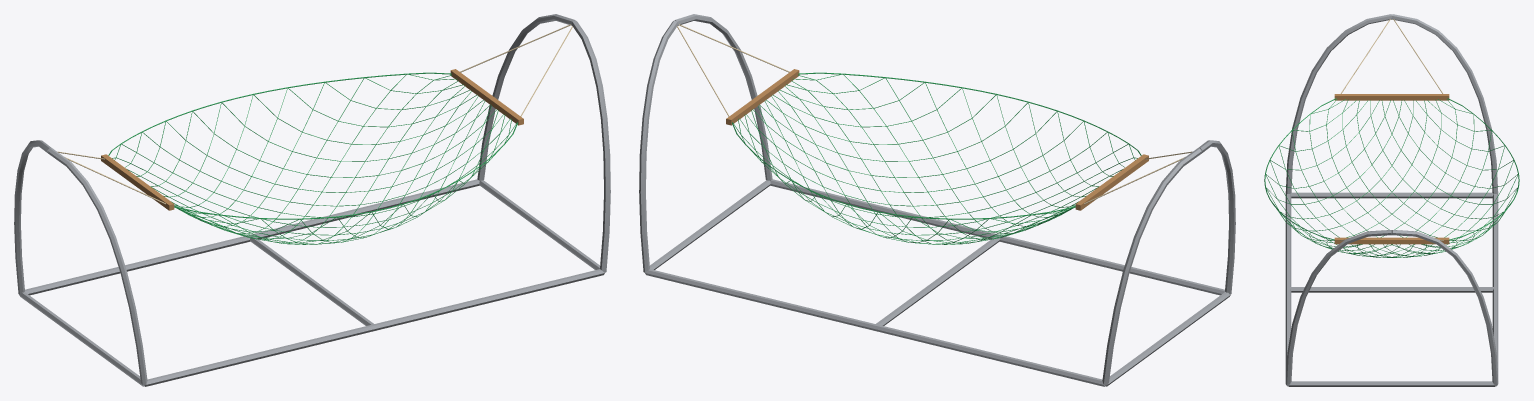
The model's file is hammock_stand_iron.mid.glb.
3 views of the same model, side by side, from view 1: azimuth 30°, elevation 25°; view 2: azimuth 150°, elevation 25°; view 3: azimuth 270°, elevation 25° (orthographic). The views are drawn at different scales.
Visible parts, largest first — view 1: hammock_stand_iron, net_hammock_stand_iron; view 2: hammock_stand_iron, net_hammock_stand_iron; view 3: hammock_stand_iron, net_hammock_stand_iron.
Part boxes in pixels (box(x1,y1,x2,y2)): hammock_stand_iron: box(14, 14, 610, 386); net_hammock_stand_iron: box(57, 24, 572, 244); hammock_stand_iron: box(639, 14, 1235, 386); net_hammock_stand_iron: box(677, 24, 1192, 244); hammock_stand_iron: box(1285, 14, 1498, 386); net_hammock_stand_iron: box(1264, 19, 1519, 257).
Bounding box in the file's own units: 2.43 × 0.8811 × 1.2.
